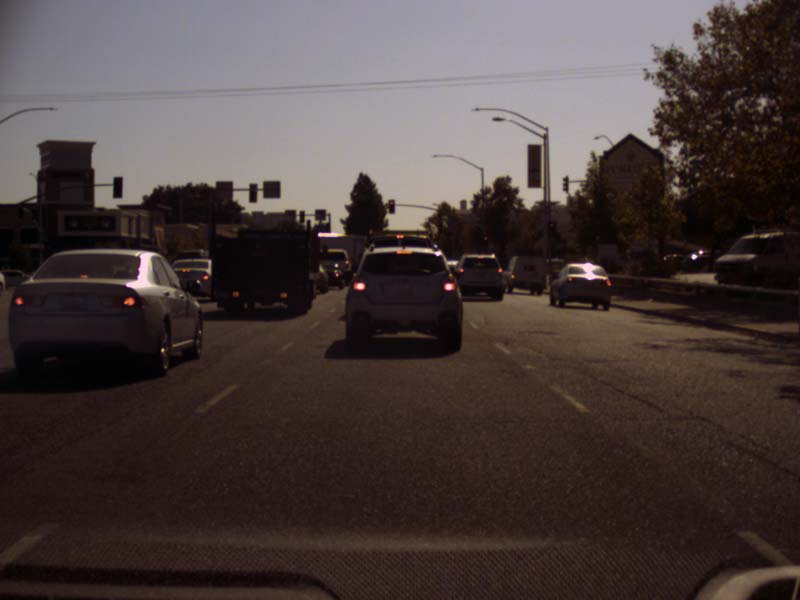Red: (548, 221, 556, 234), (388, 199, 394, 213), (482, 235, 488, 246)
